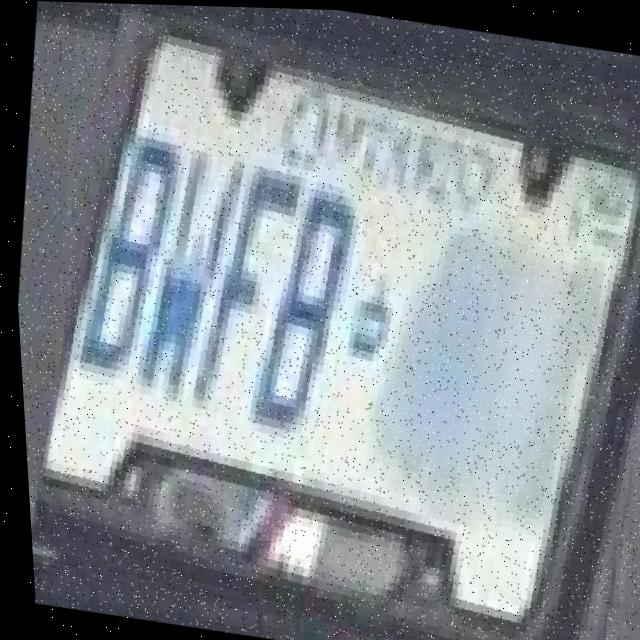LicensePlate: (4, 3, 640, 640)
